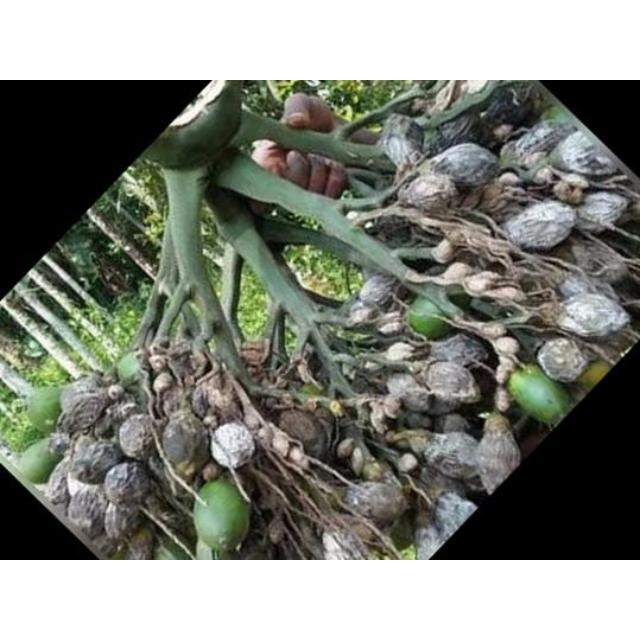damaged: (416, 492, 476, 558), (473, 414, 521, 494), (508, 366, 570, 426), (506, 200, 576, 250), (556, 292, 630, 338), (508, 119, 576, 165), (344, 480, 408, 528), (554, 130, 616, 178), (424, 431, 482, 481), (276, 408, 330, 460), (422, 360, 478, 410), (570, 237, 630, 283), (425, 112, 485, 156), (66, 480, 112, 536), (60, 387, 110, 438), (378, 115, 424, 167), (162, 416, 204, 472), (104, 462, 152, 511), (446, 144, 496, 190), (537, 338, 589, 382), (70, 440, 121, 484), (576, 192, 628, 234), (401, 174, 457, 212), (210, 423, 254, 469), (432, 335, 488, 371), (335, 436, 381, 479), (104, 499, 146, 545), (407, 296, 453, 338), (24, 386, 64, 434), (118, 415, 158, 461), (586, 334, 632, 374), (364, 212, 421, 244), (384, 372, 428, 411), (478, 180, 524, 217), (192, 379, 232, 421), (208, 186, 248, 226), (252, 141, 292, 181), (420, 472, 462, 508), (358, 274, 398, 308), (46, 461, 74, 509), (432, 80, 474, 112), (254, 476, 288, 514), (262, 514, 292, 554), (389, 429, 435, 455), (159, 384, 189, 422), (108, 400, 140, 434), (166, 348, 197, 382), (500, 136, 532, 168), (148, 450, 172, 490), (518, 272, 554, 298), (308, 402, 337, 433), (346, 302, 380, 328), (560, 274, 594, 300), (481, 410, 512, 438), (240, 343, 270, 371), (400, 256, 440, 276), (464, 273, 500, 295), (349, 522, 379, 548), (439, 262, 473, 284), (343, 328, 381, 347), (430, 237, 456, 263), (322, 485, 348, 511), (384, 342, 416, 362), (400, 411, 432, 431), (240, 408, 264, 434), (362, 266, 388, 290), (494, 359, 516, 387), (484, 286, 522, 302), (48, 433, 70, 459), (370, 408, 390, 436), (240, 542, 270, 560), (478, 322, 508, 340), (349, 127, 378, 145), (494, 336, 520, 356), (271, 432, 291, 458), (189, 294, 209, 320), (493, 387, 511, 415), (511, 411, 532, 435), (152, 374, 174, 396), (490, 123, 514, 143), (395, 454, 419, 474), (398, 475, 418, 499), (248, 198, 272, 218), (328, 111, 349, 132), (382, 396, 402, 418), (296, 362, 314, 386), (336, 438, 356, 459), (564, 185, 584, 205), (407, 98, 429, 116), (506, 404, 524, 426), (299, 382, 323, 398), (148, 355, 168, 373), (256, 423, 272, 443), (215, 548, 239, 560), (108, 385, 124, 401), (341, 363, 355, 381)
